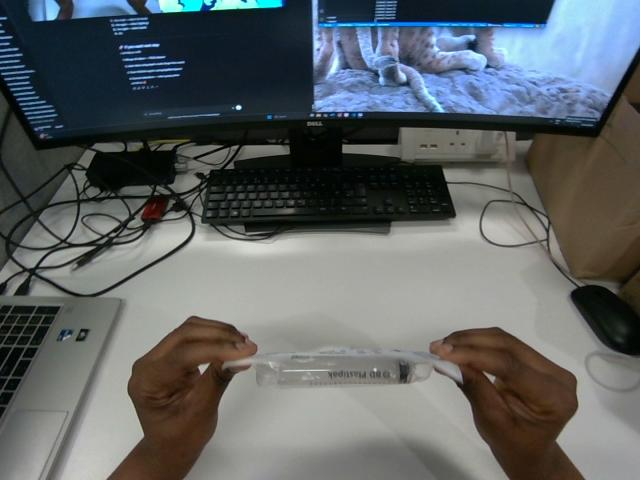syringe: (223, 348, 461, 387)
